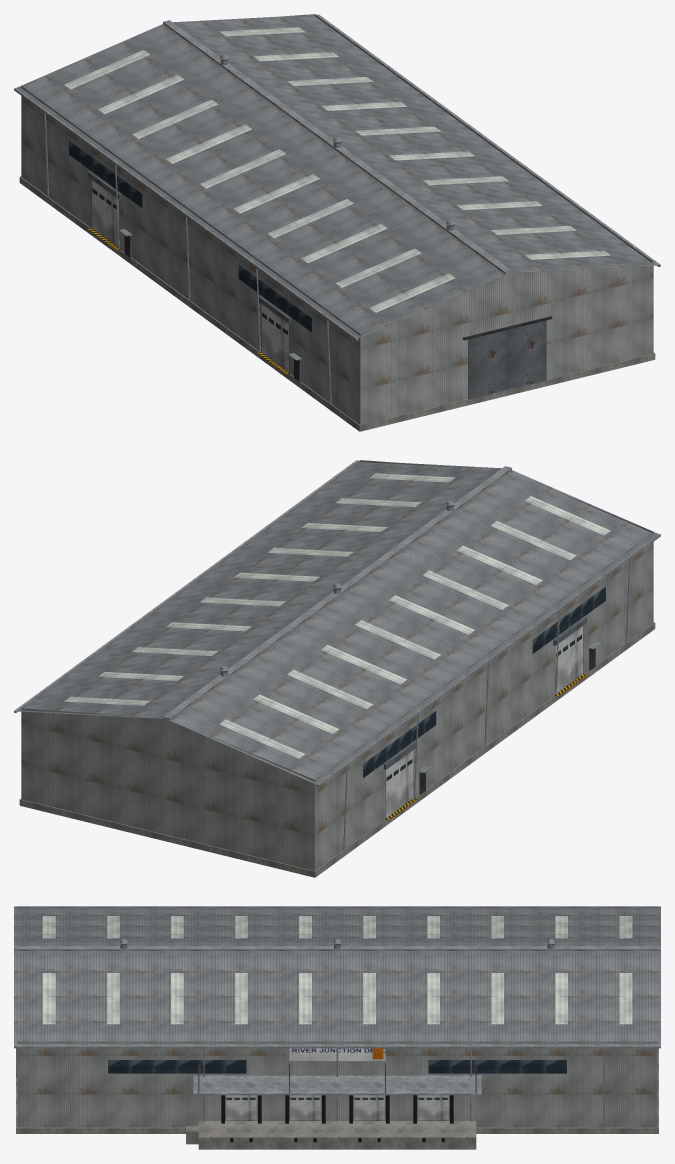
The model's file is wh_shed.glb.
3 renders of one model, top to bottom at view 1: azimuth 30°, elevation 25°; view 2: azimuth 150°, elevation 25°; view 3: azimuth 270°, elevation 25°, orthographic. The views are drawn at different scales.
Parts seen in each view (by area): view 1: wh_shed; view 2: wh_shed; view 3: wh_shed.
Part boxes in pixels (x1,y1,x2,y2): wh_shed: [14, 14, 660, 431]; wh_shed: [14, 460, 660, 877]; wh_shed: [14, 906, 660, 1149].
Bounding box in the file's own units: 34.6 × 13.05 × 60.6.
Materials: 1 (1 with a texture image).
